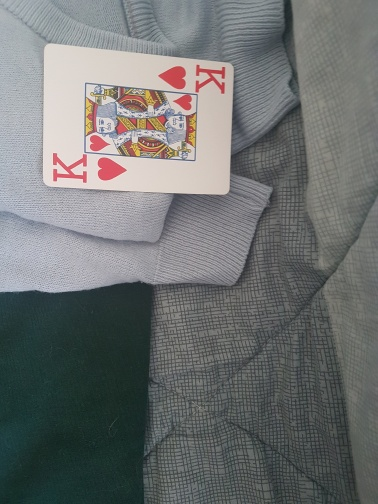king: (41, 44, 231, 201)
